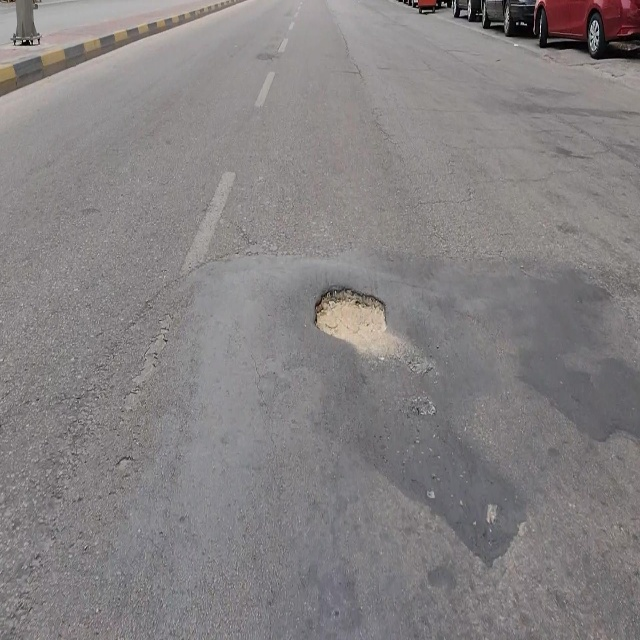pothole: (312, 281, 389, 356)
